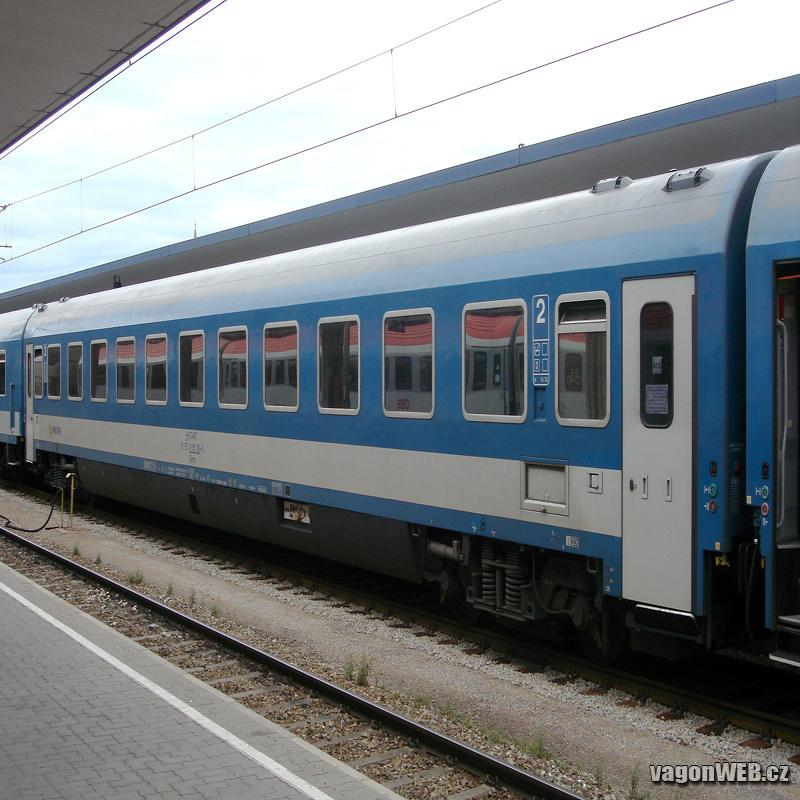train: (22, 151, 776, 709)
